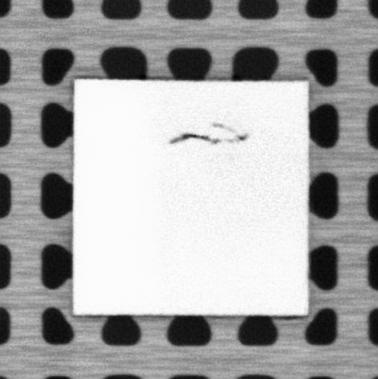DIE_INK: (164, 120, 250, 147)
